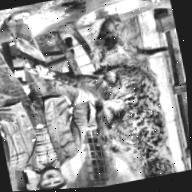boar: (66, 0, 192, 188)
